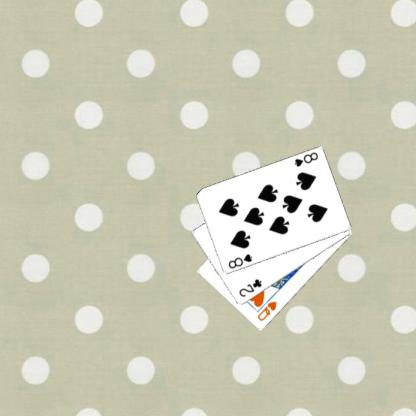2C: (236, 276, 263, 298)
8S: (226, 251, 254, 270), (292, 150, 320, 168)
QH: (255, 299, 278, 323)
